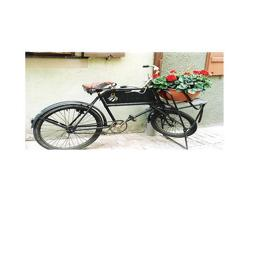bicycle: (46, 123, 256, 256)
pottedplant: (206, 138, 256, 199)
